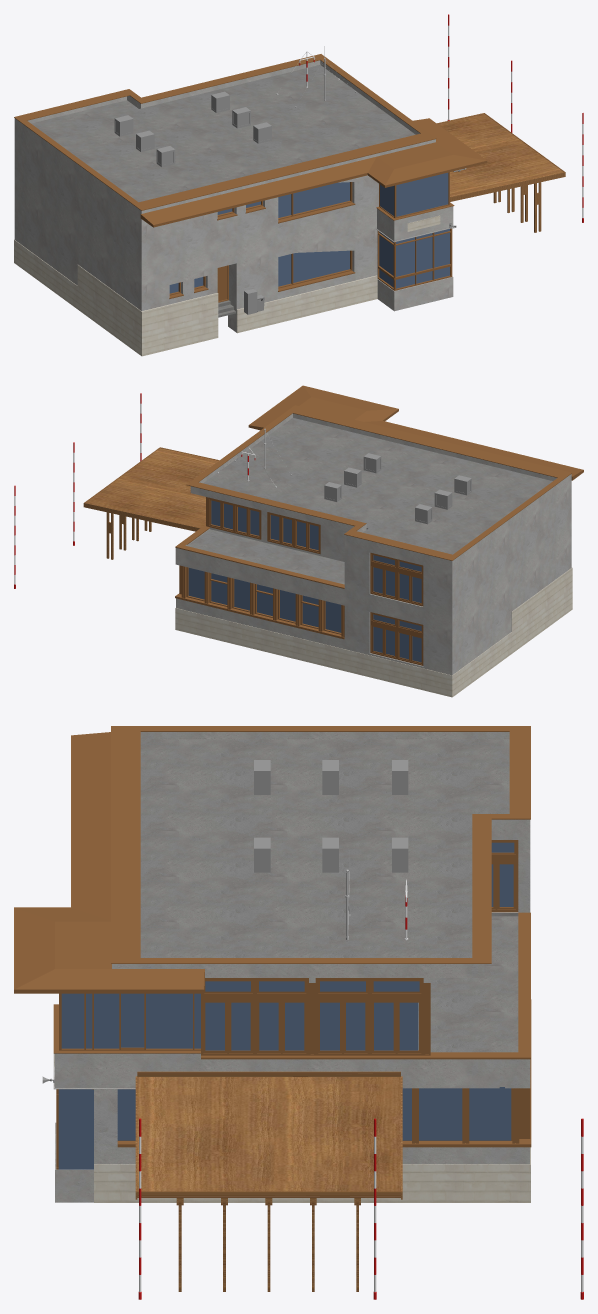
Rendered from metro_station.glb.
The picture shows the model from 3 angles, top to bottom: view 1: azimuth 30°, elevation 25°; view 2: azimuth 150°, elevation 25°; view 3: azimuth 270°, elevation 25°; orthographic projection. The views are drawn at different scales.
Parts seen in each view (by area): view 1: Walls01, Floors01, Object003_stone 2 nesura 600x600x180_0, Object002_wood_0, Rectangle02, sunshade01, Window_glass01, Window_glass02, Window_frames01, Rectangle01, Window_frames02, Box704; view 2: Walls01, Floors01, Object003_stone 2 nesura 600x600x180_0, sunshade01, Object002_wood_0, Window_glass01, Window_frames01, Rectangle02, Window_frames02, Window_glass02, Rectangle01; view 3: Floors01, sunshade01, Window_glass01, Walls01, Object002_wood_0, Rectangle02, Window_frames01, Object003_stone 2 nesura 600x600x180_0, Rectangle01, Window_frames02, Window_glass02.
Boxes of the visible parts, <box> form: Walls01: <box>14,60,453,332</box>; Floors01: <box>31,65,415,202</box>; Object003_stone 2 nesura 600x600x180_0: <box>14,215,440,356</box>; Object002_wood_0: <box>14,54,454,298</box>; Rectangle02: <box>142,119,485,224</box>; sunshade01: <box>437,113,565,232</box>; Window_glass01: <box>379,172,449,288</box>; Window_glass02: <box>169,182,349,293</box>; Window_frames01: <box>377,172,452,290</box>; Rectangle01: <box>140,118,487,227</box>; Window_frames02: <box>169,182,352,295</box>; Box704: <box>244,289,264,314</box>; Walls01: <box>175,413,571,675</box>; Floors01: <box>187,418,552,584</box>; Object003_stone 2 nesura 600x600x180_0: <box>175,567,572,697</box>; sunshade01: <box>83,447,219,559</box>; Object002_wood_0: <box>175,405,571,588</box>; Window_glass01: <box>188,500,341,632</box>; Window_frames01: <box>175,497,344,639</box>; Rectangle02: <box>250,386,582,475</box>; Window_frames02: <box>370,552,423,665</box>; Window_glass02: <box>373,555,421,662</box>; Rectangle01: <box>248,385,583,480</box>; Floors01: <box>140,739,518,1052</box>; sunshade01: <box>135,1071,402,1291</box>; Window_glass01: <box>58,981,511,1169</box>; Walls01: <box>53,732,530,1202</box>; Object002_wood_0: <box>53,726,530,1059</box>; Rectangle02: <box>15,732,202,988</box>; Window_frames01: <box>56,978,531,1169</box>; Object003_stone 2 nesura 600x600x180_0: <box>54,1053,530,1202</box>; Rectangle01: <box>14,732,204,993</box>; Window_frames02: <box>491,840,518,912</box>; Window_glass02: <box>491,842,514,906</box>.
Size of the model in its own units: 23.79 by 9.82 by 15.8.
Materials: 9 (4 with a texture image).
